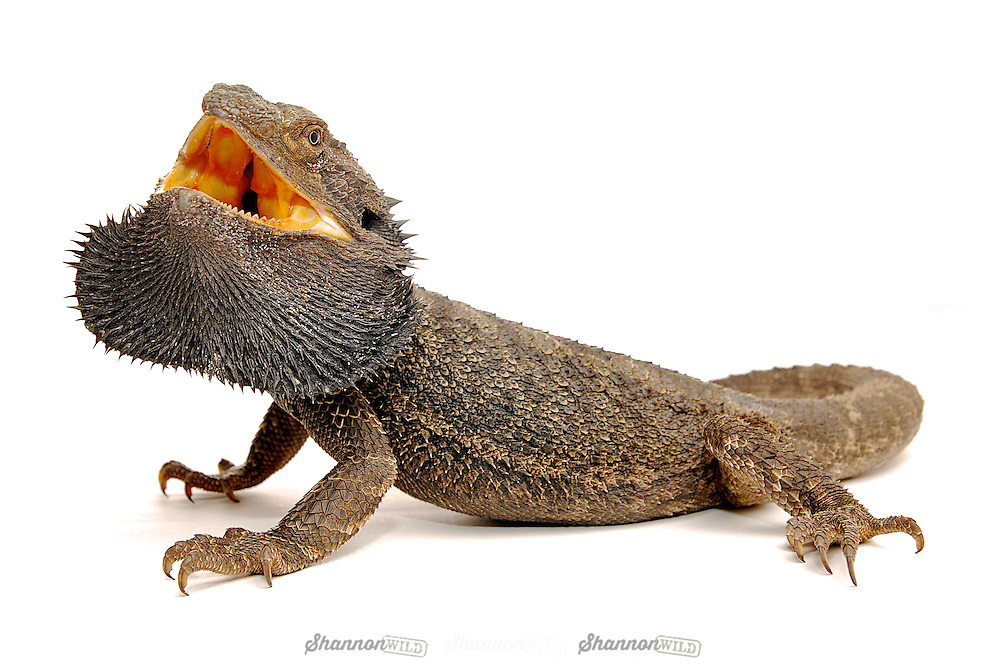bearded: (78, 87, 934, 599)
